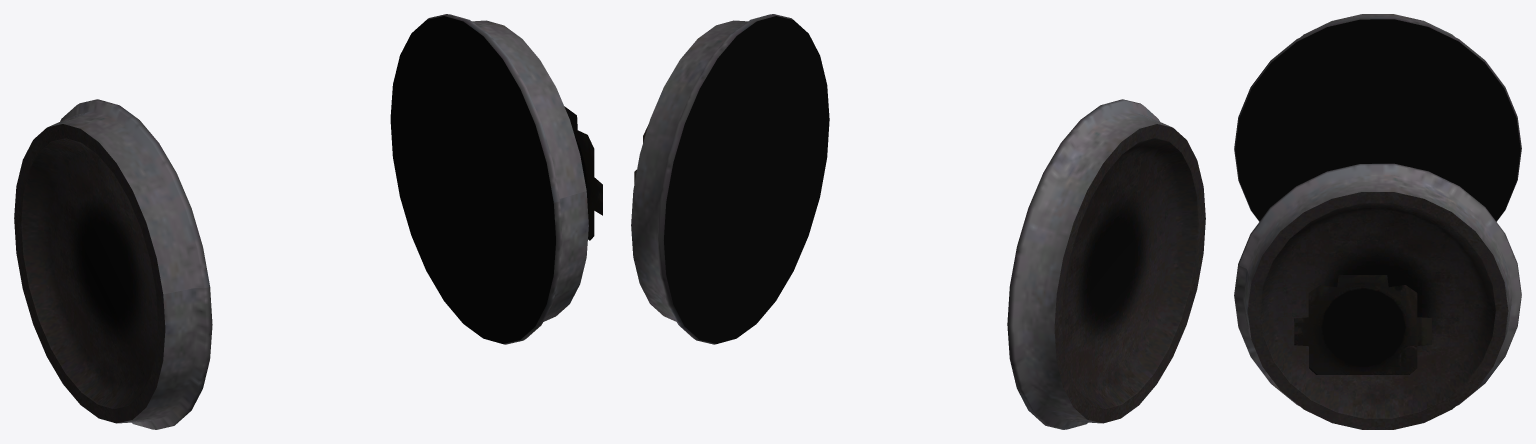
The model's file is wheelset.glb.
The picture shows the model from 3 angles, left to right: view 1: azimuth 30°, elevation 25°; view 2: azimuth 150°, elevation 25°; view 3: azimuth 270°, elevation 25°; orthographic projection. The views are drawn at different scales.
Parts seen in each view (by area): view 1: Wheelset; view 2: Wheelset; view 3: Wheelset.
Part boxes in pixels (x1,y1,x2,y2): Wheelset: [14, 14, 602, 429]; Wheelset: [631, 14, 1205, 429]; Wheelset: [1234, 14, 1521, 429].
Size of the model in its own units: 1.85 by 1.16 by 1.15.
2 materials, 2 textured.
